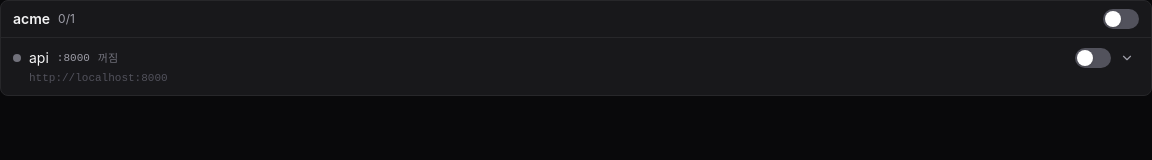
Test case: GroupCard › start_service 가 '' 로 실패하면 '켜지 못했습니다. 로그를 확인하세요.' 을 보여준다
Click the switch named "acme 전체": (1121, 19) [1103, 9, 1139, 29]
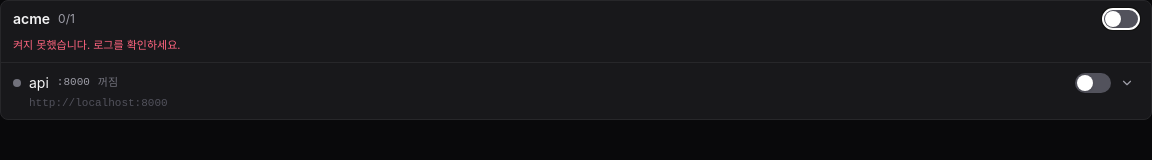
Expected: the message reads "켜지 못했습니다. 로그를 확인하세요.", [13, 38, 180, 52]
